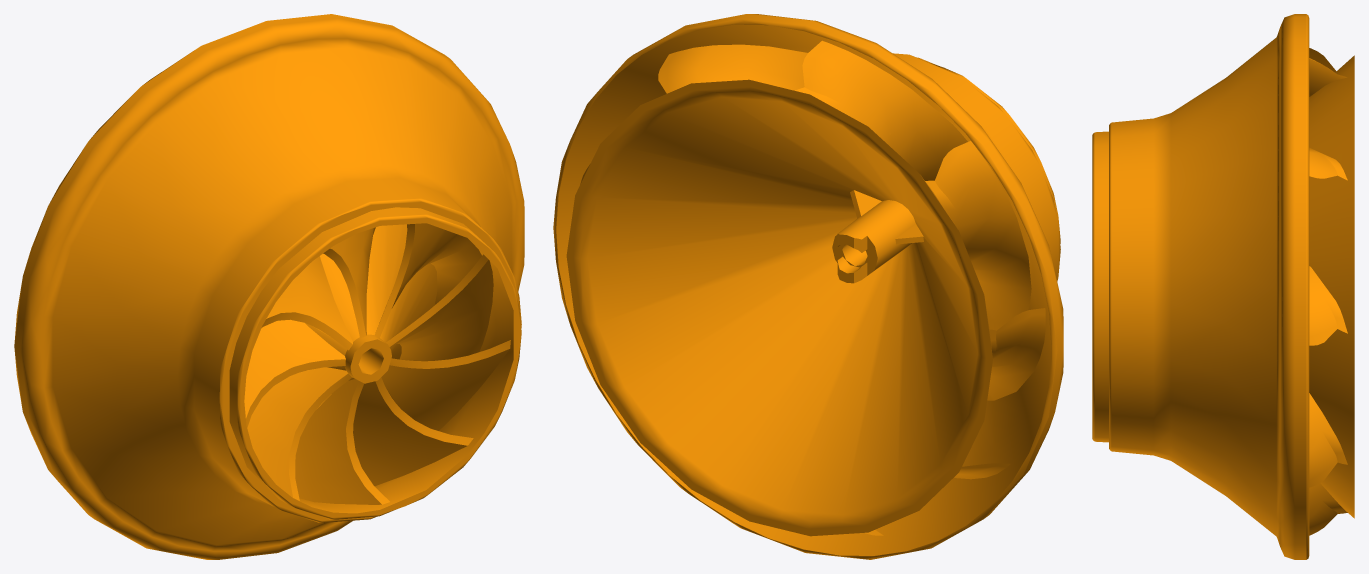
The model's file is turbine.obj.
3 renders of one model, left to right at view 1: azimuth 30°, elevation 25°; view 2: azimuth 150°, elevation 25°; view 3: azimuth 270°, elevation 25°, orthographic. The views are drawn at different scales.
Visible parts, largest first — view 1: 1; view 2: 1; view 3: 1.
Part boxes in pixels (x1,y1,x2,y2): 1: [14, 14, 524, 559]; 1: [553, 14, 1063, 559]; 1: [1092, 14, 1354, 559].
Size of the model in its own units: 99.4 by 99.4 by 47.55.
